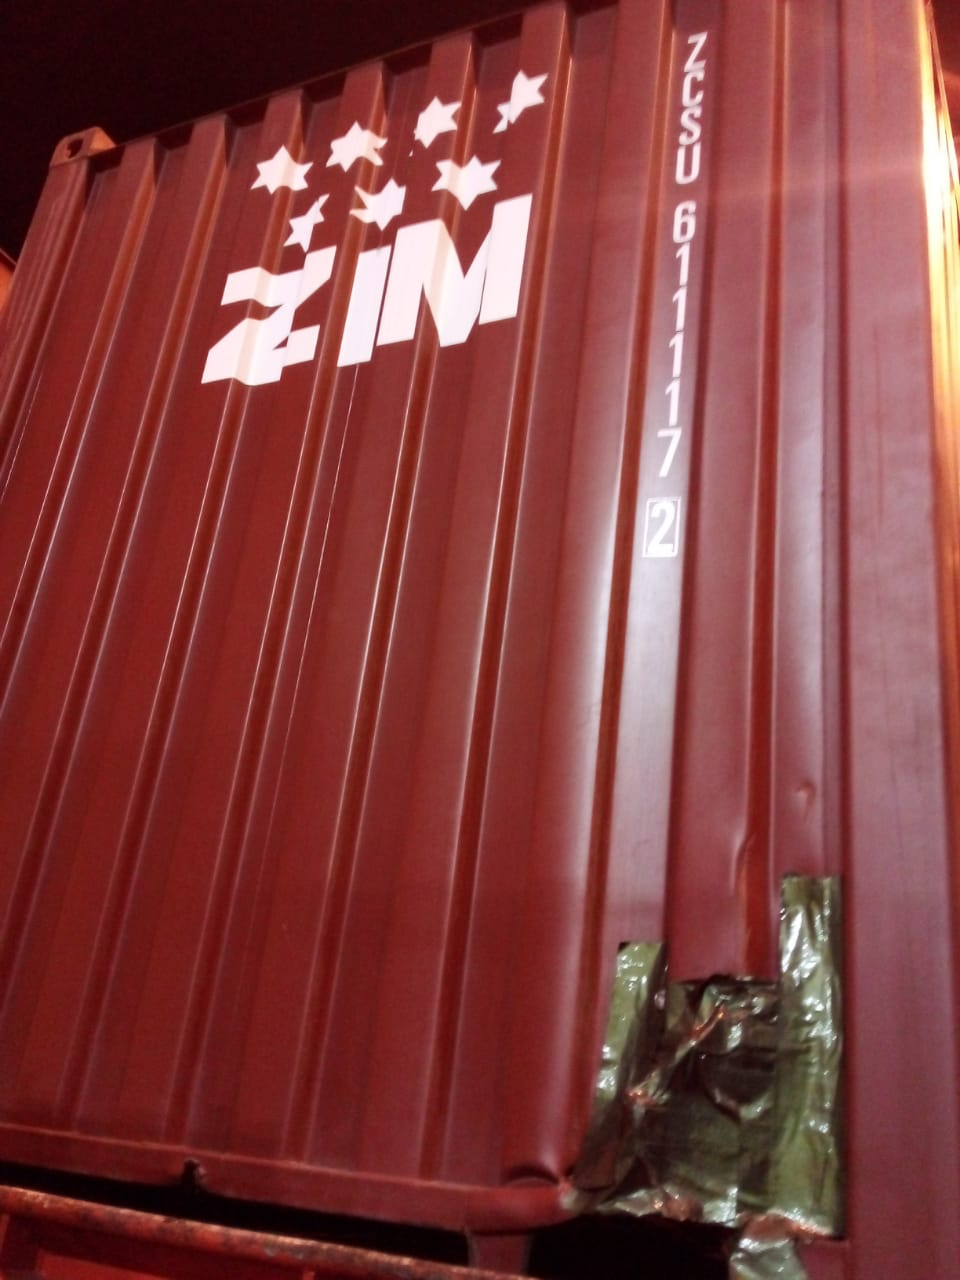dented: (428, 1002, 885, 1244)
